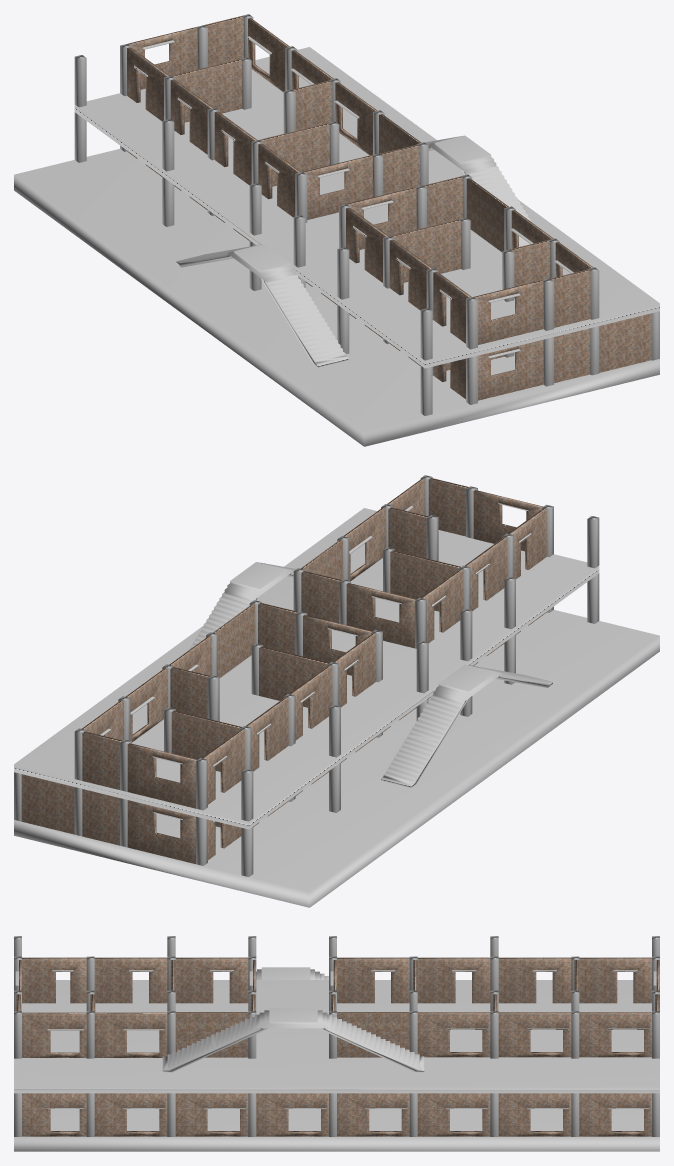
The model's file is UC_Building.fbx.
3 renders of one model, top to bottom at view 1: azimuth 30°, elevation 25°; view 2: azimuth 150°, elevation 25°; view 3: azimuth 270°, elevation 25°, orthographic. The views are drawn at different scales.
Visible parts, largest first — view 1: UC, UC05, UC02; view 2: UC, UC05, UC02; view 3: UC, UC05, UC02.
Part boxes in pixels (x1,y1,x2,y2): UC: (14,36,659,446); UC05: (127,16,651,400); UC02: (74,14,659,415); UC: (14,503,659,907); UC05: (21,478,546,863); UC02: (14,475,599,876); UC: (14,967,659,1151); UC05: (16,957,659,1136); UC02: (14,936,659,1136).
Size of the model in its own units: 1950 by 795 by 4000.
